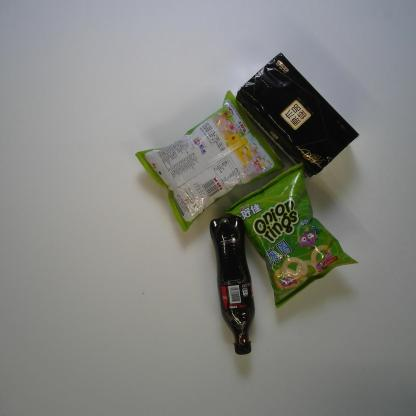Drink: (208, 214, 256, 356)
Puffed Food: (134, 89, 286, 234), (220, 161, 359, 310)
Tissue: (234, 51, 361, 181)
